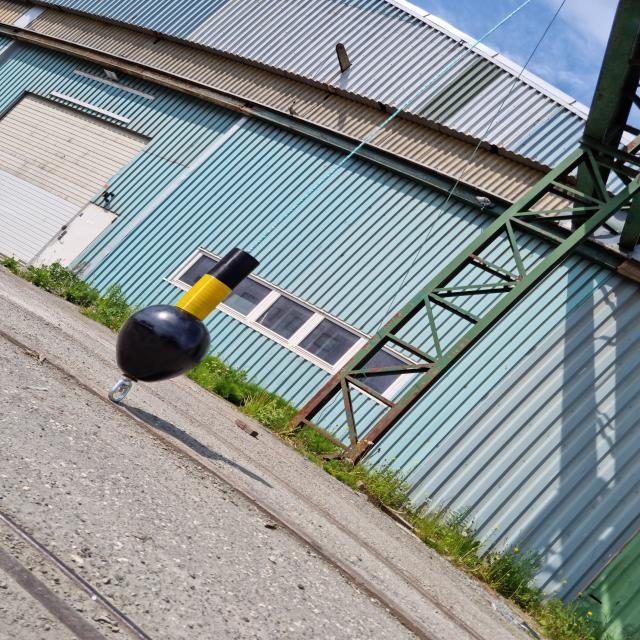east: (114, 248, 262, 383)
